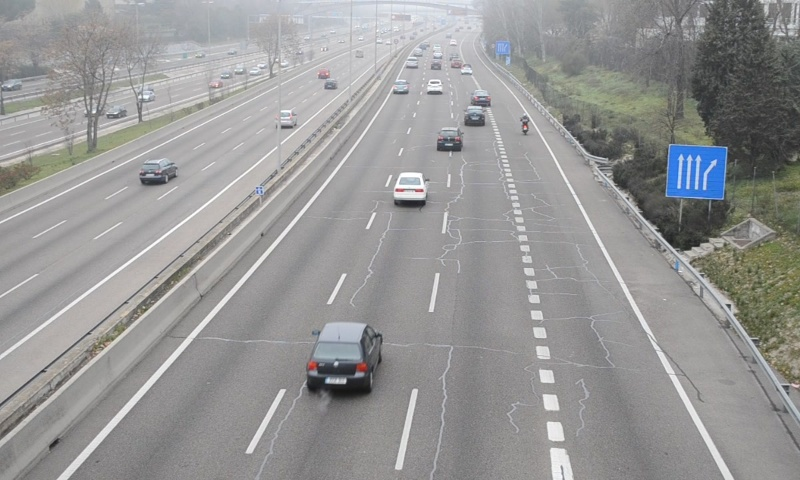car: (308, 321, 383, 389), (394, 172, 429, 202), (437, 127, 463, 152), (464, 106, 486, 126), (471, 89, 492, 106), (426, 78, 444, 94), (392, 79, 409, 94)
motorcycle: (520, 113, 531, 136)
